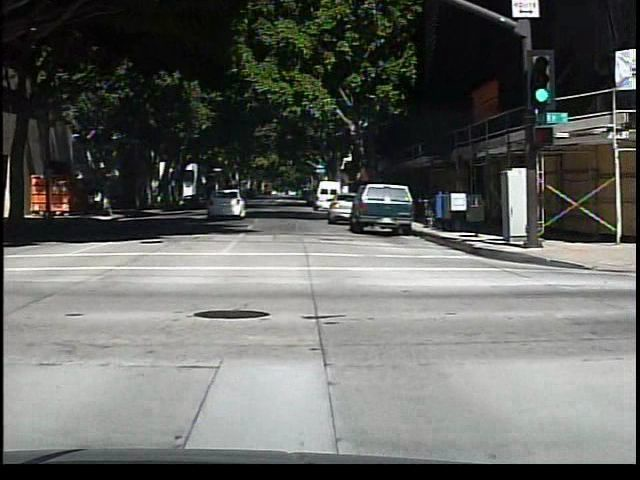person: (89, 183, 105, 217)
